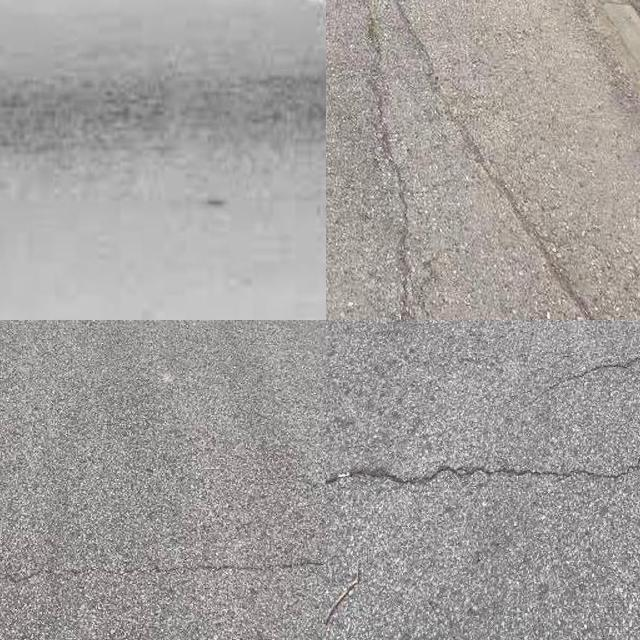Melintang: (0, 548, 326, 601), (326, 450, 640, 495), (511, 339, 640, 418)
Memanjang: (368, 0, 605, 320), (345, 0, 421, 320)
